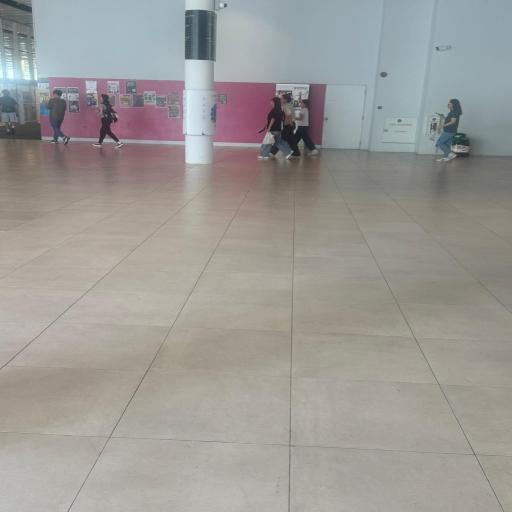person_left: (256, 96, 294, 160), (92, 94, 123, 149), (278, 94, 302, 158), (293, 98, 319, 156), (46, 89, 70, 146), (0, 89, 19, 135)
